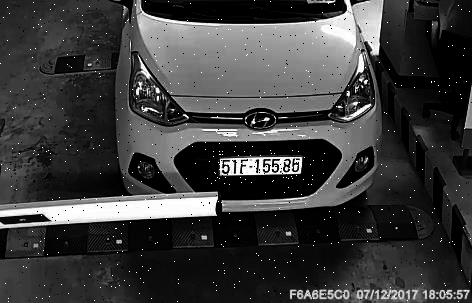License-plate: (212, 152, 315, 187)
